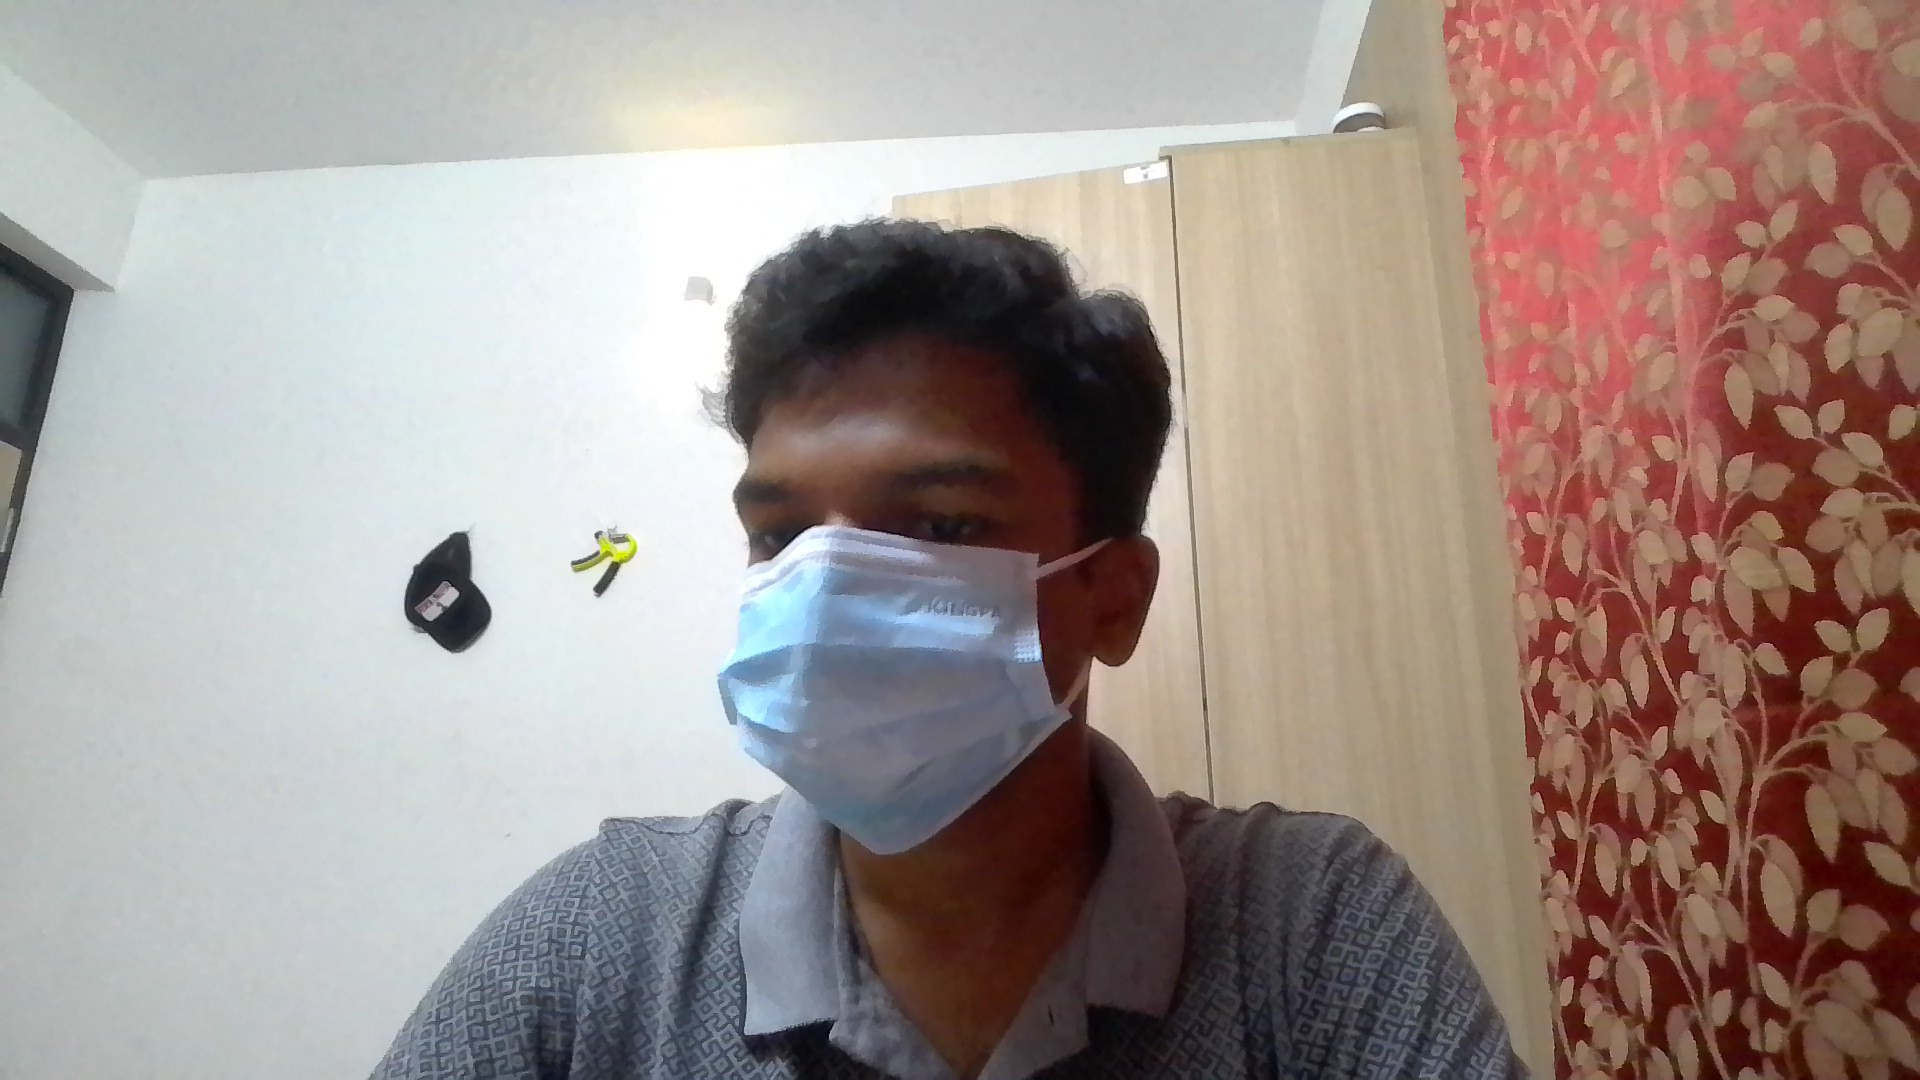Mask: (707, 546, 1095, 844)
